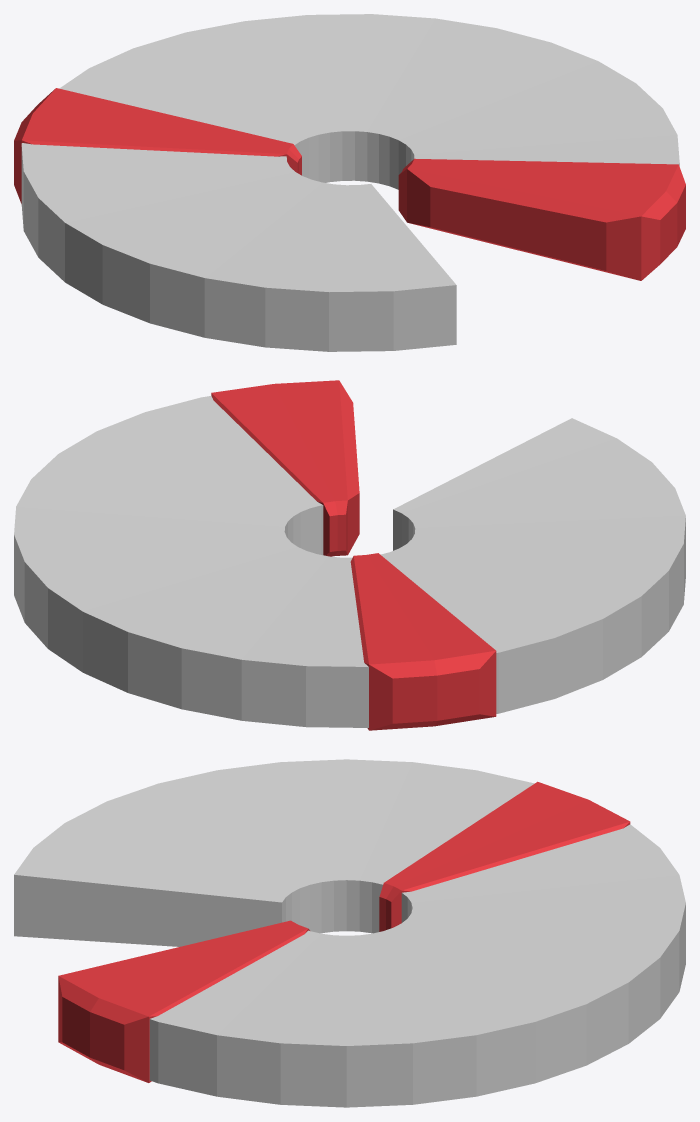
Rendered from platform_singlegap3.glb.
The picture shows the model from 3 angles, top to bottom: view 1: azimuth 30°, elevation 25°; view 2: azimuth 150°, elevation 25°; view 3: azimuth 270°, elevation 25°; orthographic projection. The views are drawn at different scales.
Parts seen in each view (by area): view 1: Platform_SingleGap3, Danger.007, Danger.018; view 2: Platform_SingleGap3, Danger.018, Danger.007; view 3: Platform_SingleGap3, Danger.007, Danger.018.
Part boxes in pixels (x1=…): Platform_SingleGap3: x1=21, y1=14, x2=679, y2=351; Danger.007: x1=398, y1=158, x2=685, y2=280; Danger.018: x1=14, y1=88, x2=301, y2=203; Platform_SingleGap3: x1=14, y1=395, x2=685, y2=727; Danger.018: x1=350, y1=553, x2=496, y2=730; Danger.007: x1=211, y1=380, x2=359, y2=556; Platform_SingleGap3: x1=14, y1=759, x2=685, y2=1107; Danger.007: x1=58, y1=920, x2=309, y2=1082; Danger.018: x1=379, y1=781, x2=630, y2=931.
Size of the model in its own units: 2 by 0.2167 by 1.98.
